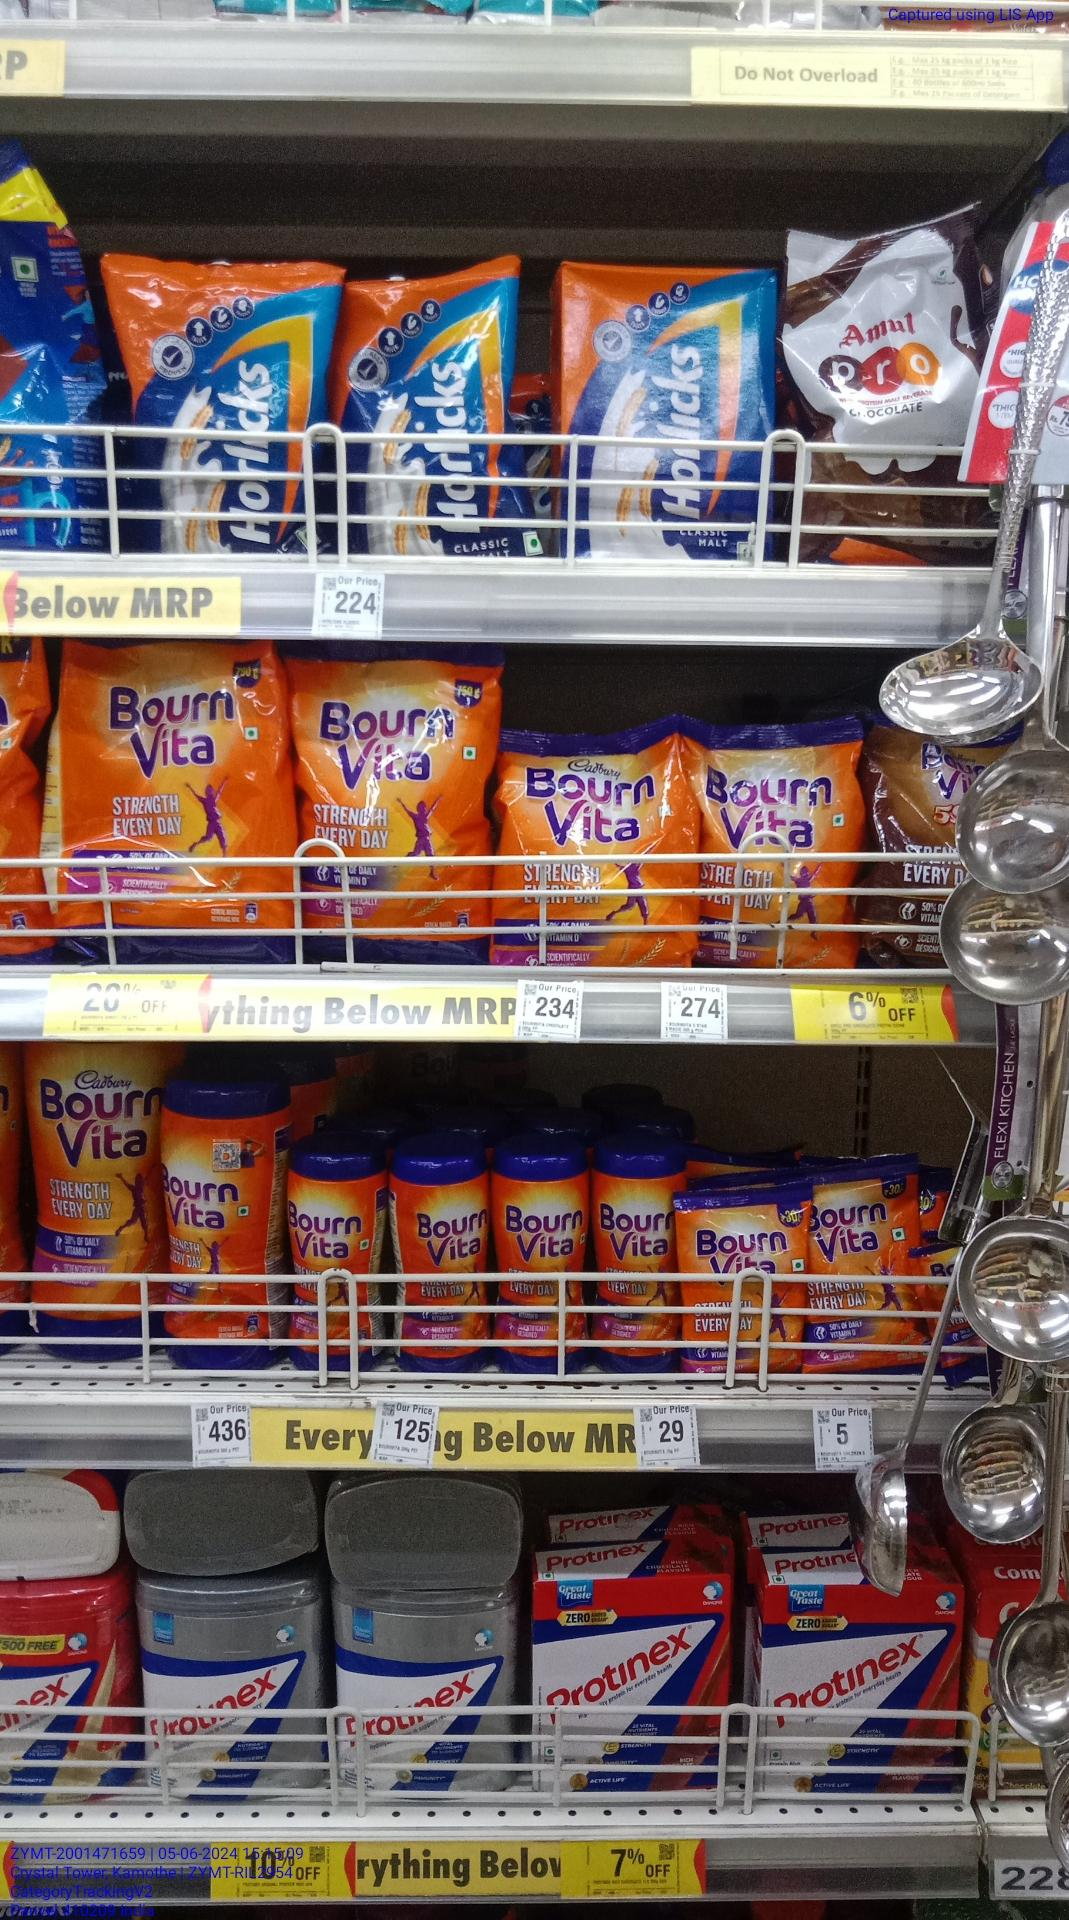BOURN_VITA_1_KG_JAR: (32, 1034, 157, 1365)
BOURN_VITA_200_G_JAR: (494, 1151, 587, 1382), (398, 1140, 487, 1371), (283, 1149, 369, 1377), (594, 1150, 671, 1377)
BOURN_VITA_500_G_JAR: (161, 1083, 274, 1374)
BOURN_VITA_500_G_POUCH: (503, 732, 695, 971), (704, 728, 857, 975)
BOURN_VITA_750_G_POUCH: (54, 638, 287, 938), (299, 641, 494, 965)
BOURN_VITA_75_G_POUCH: (811, 1171, 929, 1380), (678, 1191, 806, 1379)
PROTINEX_ORIGINAL_400_G_JAR: (150, 1582, 319, 1802), (334, 1594, 524, 1788)
PROTINEX_VANILLA_400_G_JAR: (0, 1588, 140, 1811)
